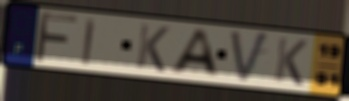A: (167, 28, 222, 80)
F: (32, 10, 80, 65)
I: (81, 16, 99, 68)
K: (272, 35, 309, 88), (134, 22, 171, 75)
V: (228, 29, 272, 87)
